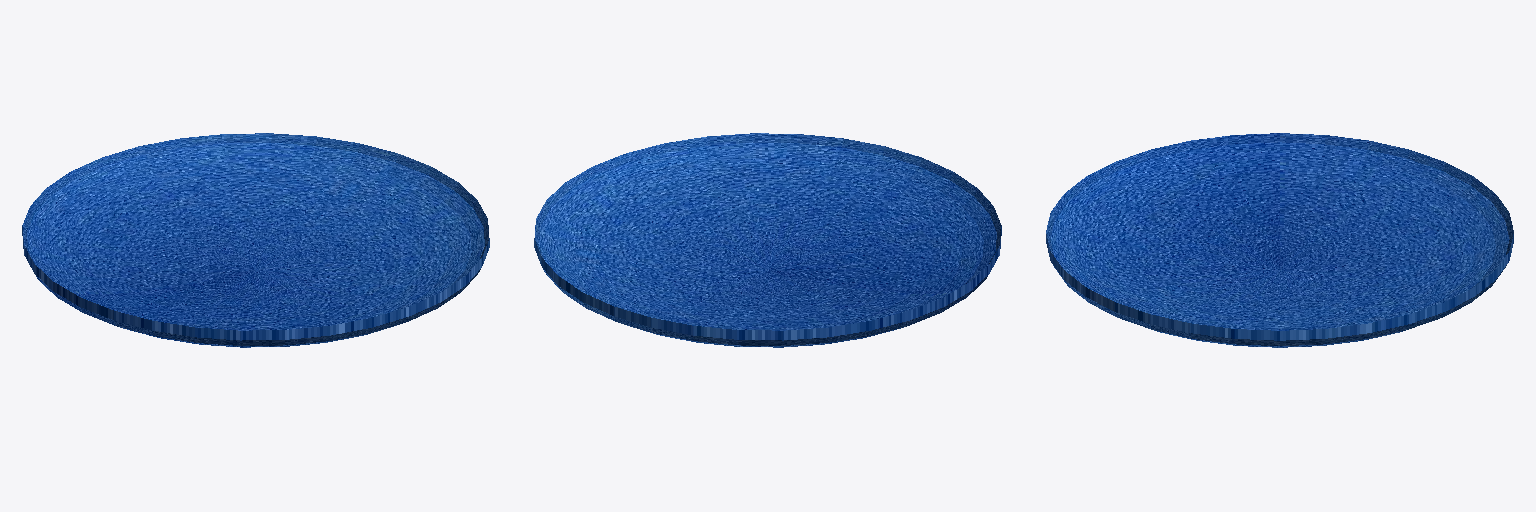
3 views of the same model, side by side, from view 1: azimuth 30°, elevation 25°; view 2: azimuth 150°, elevation 25°; view 3: azimuth 270°, elevation 25° (orthographic).
Parts seen in each view (by area): view 1: Sphere; view 2: Sphere; view 3: Sphere.
Part boxes in pixels (x1,y1,x2,y2): Sphere: (22,133,489,347); Sphere: (534,133,1001,347); Sphere: (1046,133,1513,347).
Size of the model in its own units: 13.17 by 1.49 by 13.17.
1 materials, 1 textured.